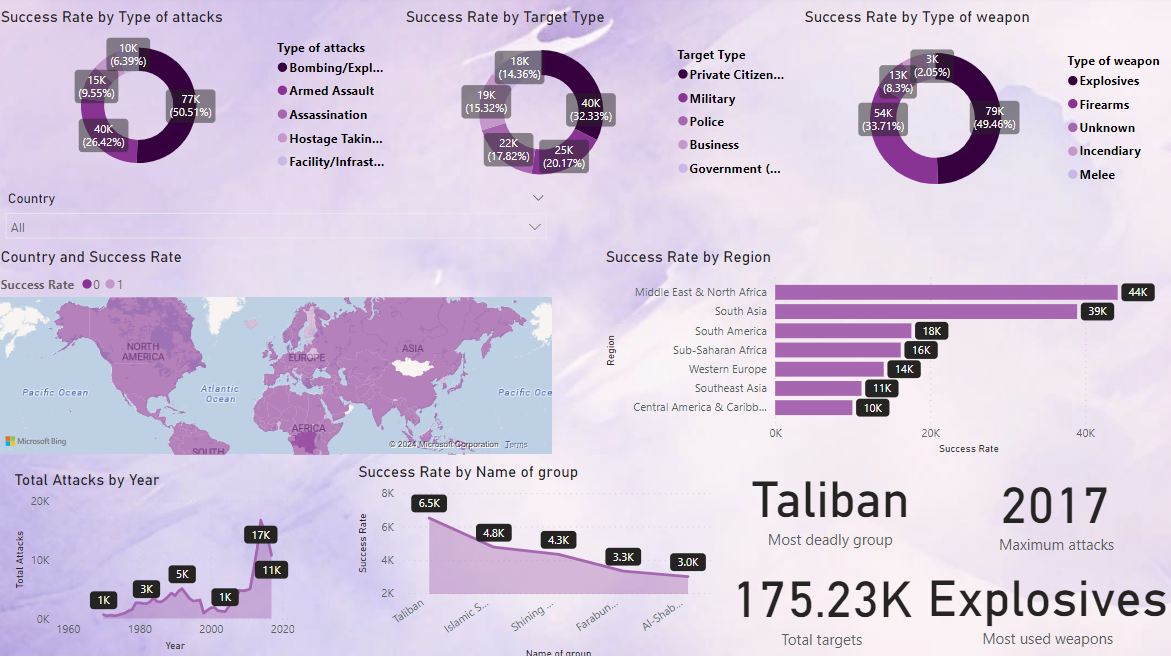

Layout of this report page (visuals, bound fields, positions):
{"tool":"powerbi","page":{"name":"Page 1","canvas":[1280,720],"ordinal":0},"visuals":[{"type":"donutChart","fields":{"Category":["Global terrorism final data set.Type of attacks"],"Y":["Sum(Global terrorism final data set.Success Rate)"]},"box":[0,13.5,436.7,192],"z":0},{"type":"donutChart","fields":{"Category":["Global terrorism final data set.Target Type"],"Y":["Sum(Global terrorism final data set.Success Rate)"]},"box":[436.7,13.5,428.6,206.8],"z":1000},{"type":"donutChart","fields":{"Category":["Global terrorism final data set.Type of weapon"],"Y":["Sum(Global terrorism final data set.Success Rate)"]},"box":[865.2,13.5,415,220.4],"z":2000},{"type":"barChart","fields":{"Category":["Global terrorism final data set.Region"],"Y":["Sum(Global terrorism final data set.Success Rate)"]},"box":[651.7,271.7,628.3,228.3],"z":3000},{"type":"areaChart","fields":{"Category":["Global terrorism final data set.Name of group"],"Y":["Sum(Global terrorism final data set.Success Rate)"]},"box":[385,503.3,393.3,216.7],"z":4000},{"type":"areaChart","fields":{"Category":["Global terrorism final data set.Year"],"Y":["CountNonNull(Global terrorism final data set.Year)"]},"box":[15,511.7,311.7,200],"z":5000},{"type":"slicer","fields":{"Values":["Global terrorism final data set.Country"]},"box":[0,205.5,603,66.2],"z":6000},{"type":"card","fields":{"Values":["Min(Global terrorism final data set.Name of group)"]},"box":[803.3,493.3,190,110],"z":7000},{"type":"card","fields":{"Values":["CountNonNull(Global terrorism final data set.Target Type)"]},"box":[786.7,601.7,206.7,106.7],"z":8000},{"type":"card","fields":{"Values":["Max(Global terrorism final data set.Year)"]},"box":[1046.7,503.3,188.3,100],"z":9000},{"type":"card","fields":{"Values":["Min(Global terrorism final data set.Type of weapon)"]},"box":[1001.7,588.3,278.3,131.7],"z":10000},{"type":"filledMap","fields":{"Category":["Global terrorism final data set.Country"],"Series":["Global terrorism final data set.Success Rate"]},"box":[0,272,603,228],"z":11000}]}

Visuals, with their boxes in screenshot pixels (x1, y1, x2, y2), scaled from the page's 1280x720 canvas onto the 1171x657 screenshot:
donutChart - Global terrorism final data set.Type of attacks x Sum(Global terrorism final data set.Success Rate): 0, 12, 400, 188
donutChart - Global terrorism final data set.Target Type x Sum(Global terrorism final data set.Success Rate): 400, 12, 792, 201
donutChart - Global terrorism final data set.Type of weapon x Sum(Global terrorism final data set.Success Rate): 792, 12, 1170, 213
barChart - Global terrorism final data set.Region x Sum(Global terrorism final data set.Success Rate): 596, 248, 1170, 456
areaChart - Global terrorism final data set.Name of group x Sum(Global terrorism final data set.Success Rate): 352, 459, 712, 656
areaChart - Global terrorism final data set.Year x CountNonNull(Global terrorism final data set.Year): 14, 467, 299, 649
slicer - Global terrorism final data set.Country: 0, 188, 552, 248
card - Min(Global terrorism final data set.Name of group): 735, 450, 909, 551
card - CountNonNull(Global terrorism final data set.Target Type): 720, 549, 909, 646
card - Max(Global terrorism final data set.Year): 958, 459, 1130, 551
card - Min(Global terrorism final data set.Type of weapon): 916, 537, 1170, 656
filledMap - Global terrorism final data set.Country x Global terrorism final data set.Success Rate: 0, 248, 552, 456
